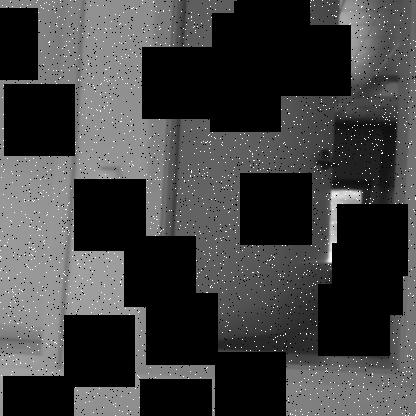Porte: (134, 0, 415, 394)
